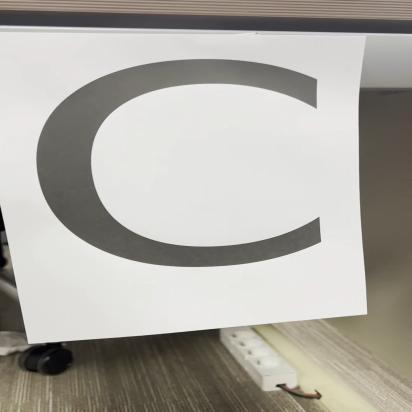seat: (9, 29, 374, 325)
